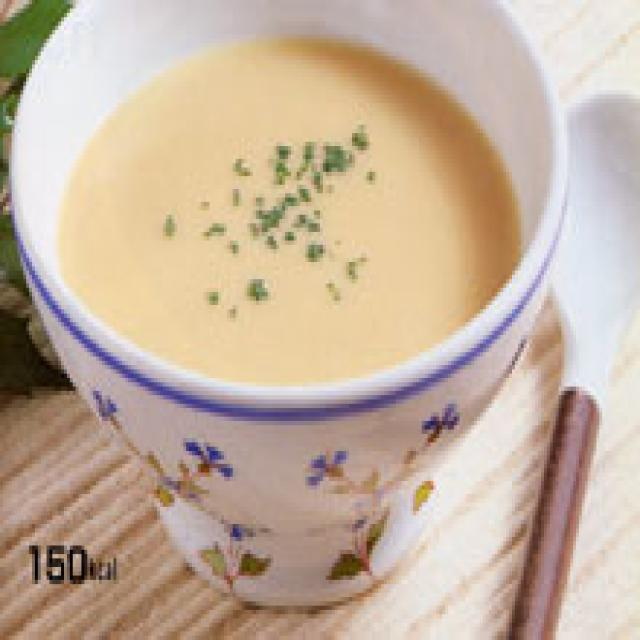汤锅炖物: (0, 0, 576, 533)
